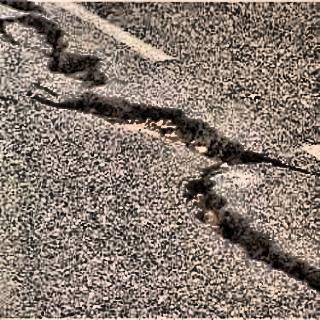crack: (186, 174, 316, 288), (86, 81, 236, 167), (8, 2, 109, 93)
pothole: (7, 0, 316, 296)
